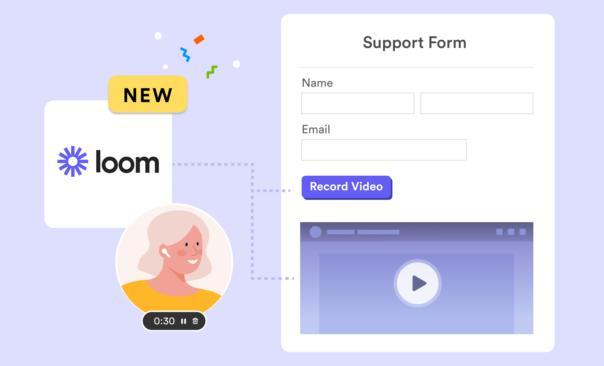button: (302, 176, 393, 201)
input: (302, 140, 468, 162), (422, 93, 534, 115), (302, 94, 415, 115)
label: (299, 75, 339, 91), (299, 125, 335, 135)
